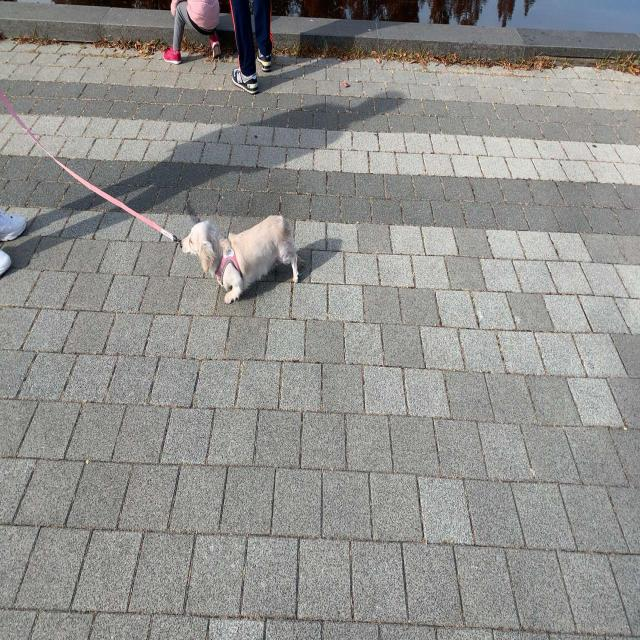Dog: (179, 214, 308, 303)
